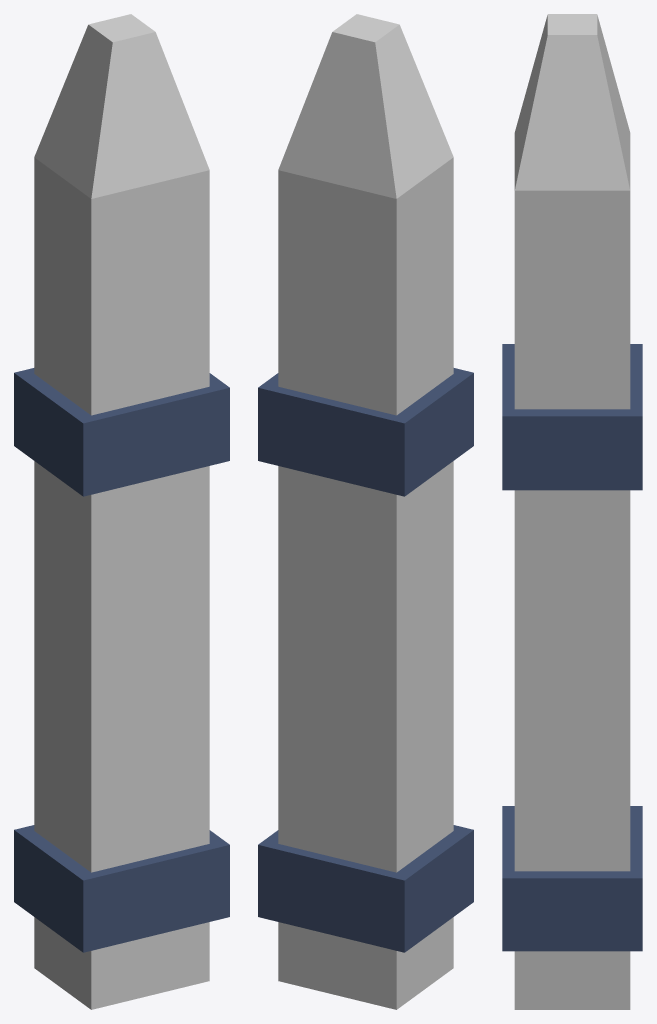
File: WhtFence_2.FBX
The picture shows the model from 3 angles, left to right: view 1: azimuth 30°, elevation 25°; view 2: azimuth 150°, elevation 25°; view 3: azimuth 270°, elevation 25°; orthographic projection.
Visible parts, largest first — view 1: WhiteFence_2; view 2: WhiteFence_2; view 3: WhiteFence_2.
Part boxes in pixels (box(x1,y1,x2,y2)): WhiteFence_2: box(14, 14, 229, 1009); WhiteFence_2: box(258, 14, 473, 1009); WhiteFence_2: box(502, 14, 642, 1009).
Bounding box in the file's own units: 3.18 × 19.63 × 2.61.
